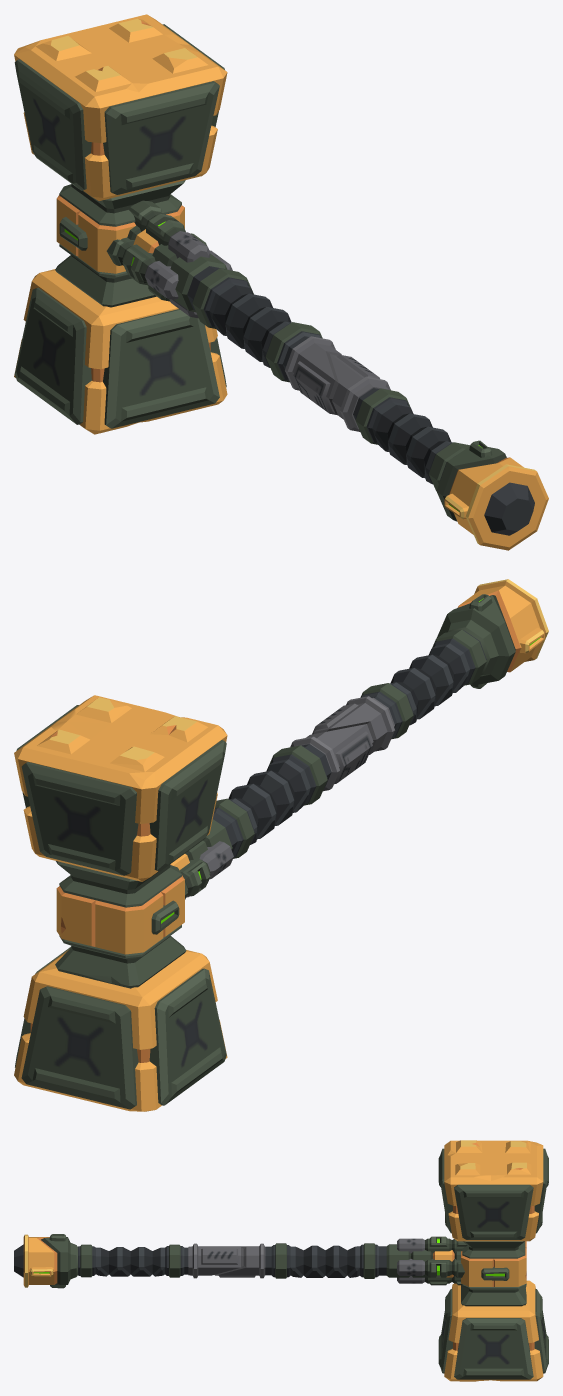
Rendered from hammer.glb.
3 views of the same model, one above another, from view 1: azimuth 30°, elevation 25°; view 2: azimuth 150°, elevation 25°; view 3: azimuth 270°, elevation 25° (orthographic). The views are drawn at different scales.
Visible parts, largest first — view 1: SM_Wep_Hammer_02; view 2: SM_Wep_Hammer_02; view 3: SM_Wep_Hammer_02.
Part boxes in pixels (box(x1,y1,x2,y2)): SM_Wep_Hammer_02: box(14, 14, 548, 550); SM_Wep_Hammer_02: box(14, 579, 548, 1111); SM_Wep_Hammer_02: box(14, 1140, 548, 1381).
Bounding box in the file's own units: 0.2085 × 0.4436 × 1.01.
1 material, 1 textured.
